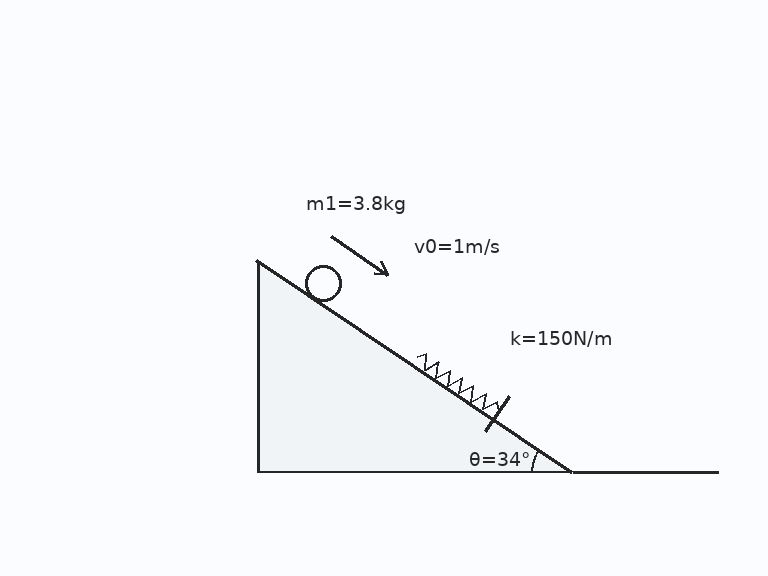ball: (303, 263, 343, 303)
ramp: (256, 258, 574, 474)
spring: (415, 353, 500, 414)
